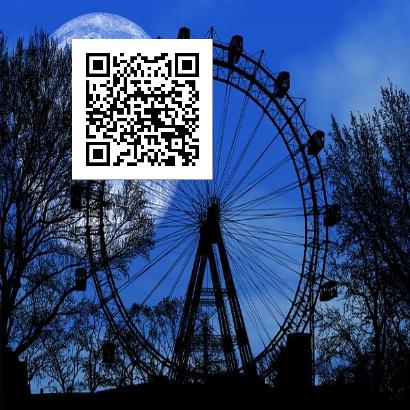qr_code: (72, 39, 212, 179)
